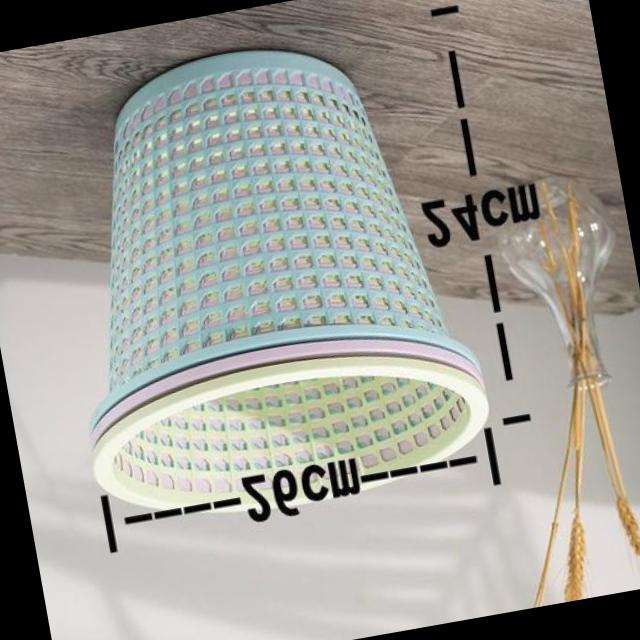dustbin: (18, 12, 504, 542)
